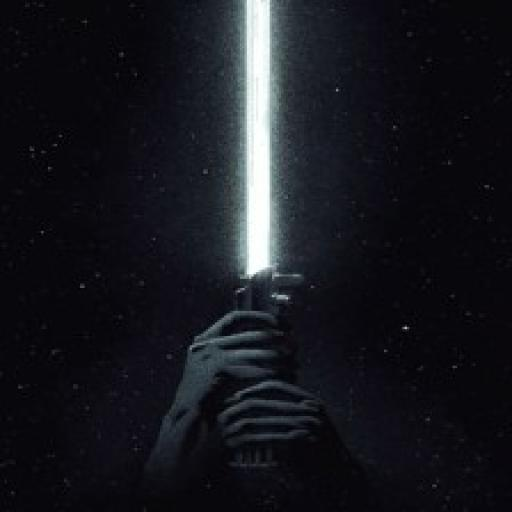lightsaber: (240, 0, 301, 469)
